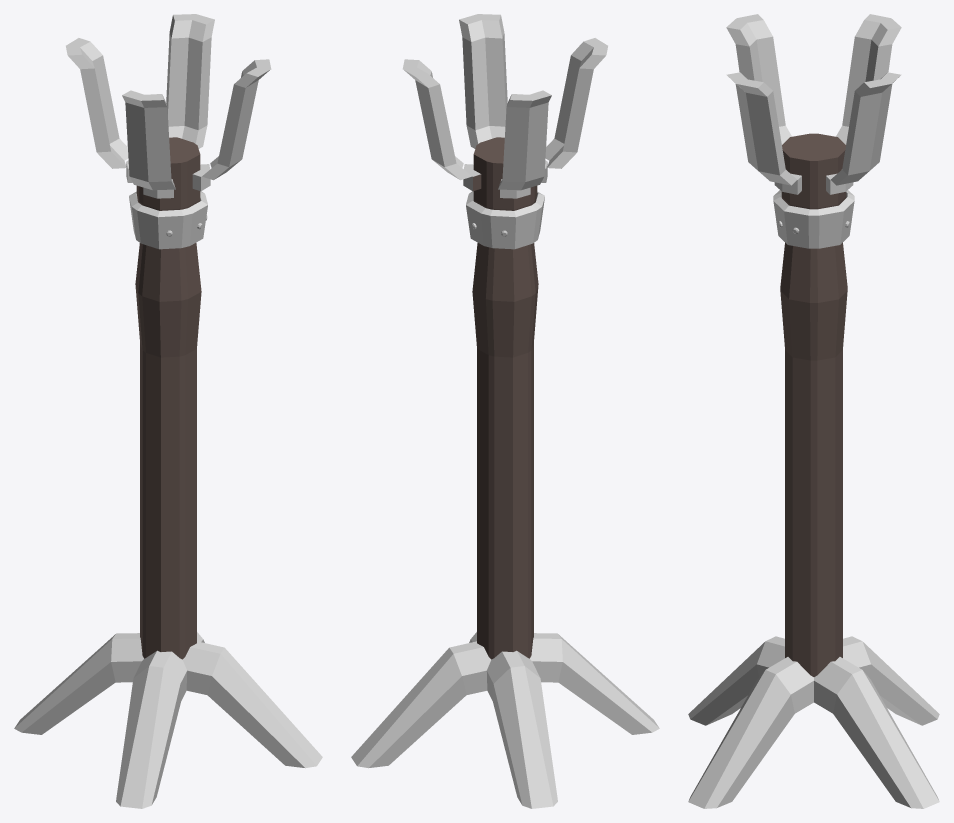
Rendered from TorchHolder.fbx.
3 views of the same model, side by side, from view 1: azimuth 30°, elevation 25°; view 2: azimuth 150°, elevation 25°; view 3: azimuth 270°, elevation 25° (orthographic). The views are drawn at different scales.
Parts seen in each view (by area): view 1: TorchHolder; view 2: TorchHolder; view 3: TorchHolder.
Part boxes in pixels (box(x1,y1,x2,y2)): TorchHolder: box(14, 14, 322, 808); TorchHolder: box(351, 14, 659, 808); TorchHolder: box(688, 14, 939, 808).
Size of the model in its own units: 21.76 by 70.44 by 22.72.
